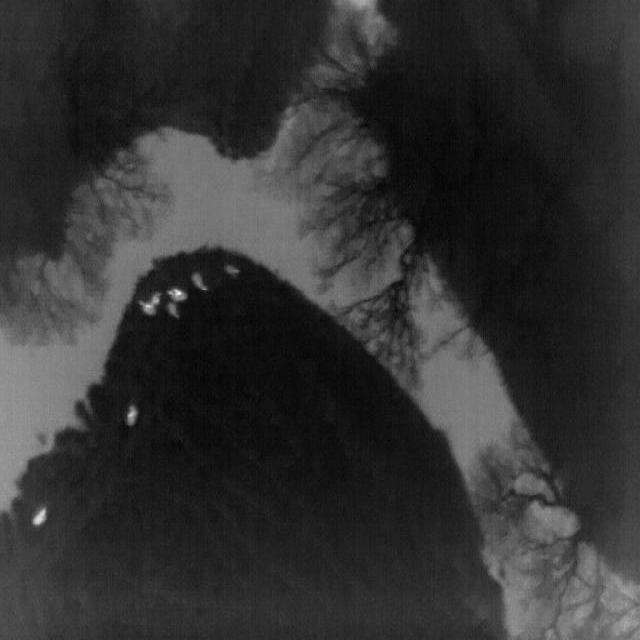deer: (136, 299, 156, 316), (166, 288, 188, 302), (191, 272, 208, 290), (31, 508, 47, 527), (125, 405, 138, 426), (166, 302, 180, 320), (224, 264, 240, 276), (150, 291, 162, 305)
